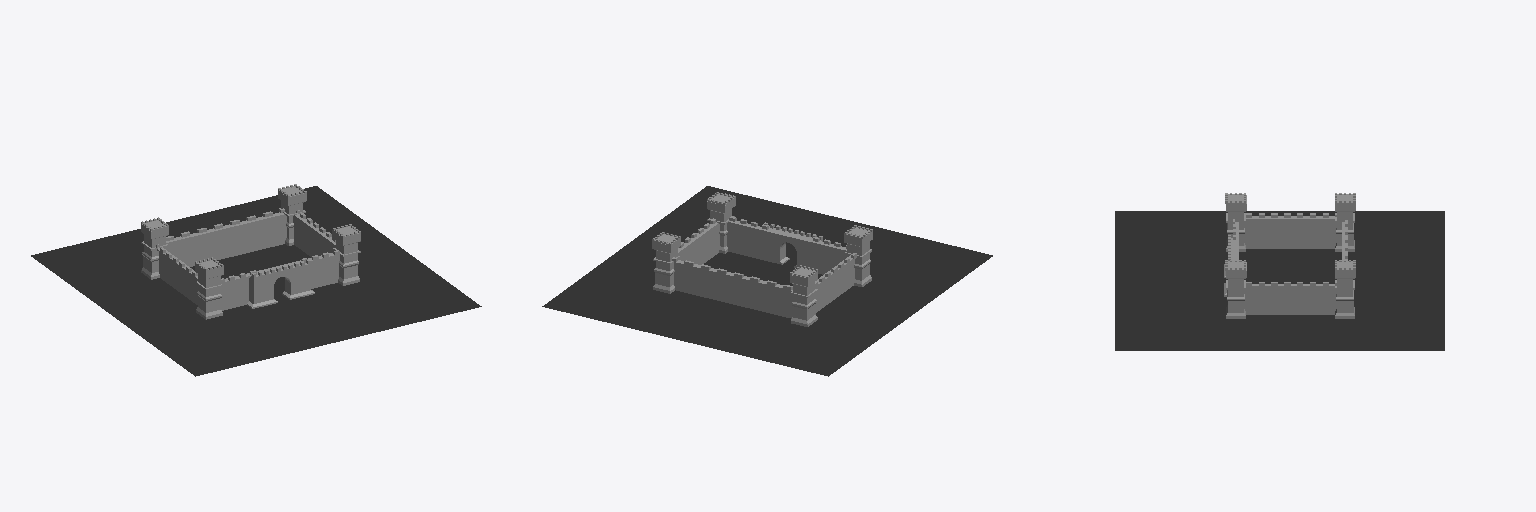
Rendered from texturing_castle_final.blend2.obj.
3 views of the same model, side by side, from view 1: azimuth 30°, elevation 25°; view 2: azimuth 150°, elevation 25°; view 3: azimuth 270°, elevation 25° (orthographic).
Parts seen in each view (by area): view 1: Ground_Plane.007, CastleWalls_Plane, Gatehouse_Circle, Cornice_blocks_Plane.002, Tower4_Plane.003, Tower3_Plane.003, Tower2_Plane.003, Tower_1_Plane.003; view 2: Ground_Plane.007, CastleWalls_Plane, Gatehouse_Circle, Cornice_blocks_Plane.002, Tower2_Plane.003, Tower_1_Plane.003, Tower4_Plane.003, Tower3_Plane.003; view 3: Ground_Plane.007, CastleWalls_Plane, Cornice_blocks_Plane.002, Tower3_Plane.003, Tower_1_Plane.003, Tower2_Plane.003, Tower4_Plane.003.
Part boxes in pixels (x1,y1,x2,y2): Ground_Plane.007: (31, 186, 481, 376); CastleWalls_Plane: (159, 216, 339, 310); Gatehouse_Circle: (249, 261, 310, 303); Cornice_blocks_Plane.002: (156, 208, 339, 282); Tower4_Plane.003: (195, 264, 223, 319); Tower3_Plane.003: (332, 230, 360, 285); Tower2_Plane.003: (141, 225, 168, 279); Tower_1_Plane.003: (278, 191, 306, 245); Ground_Plane.007: (542, 186, 992, 376); CastleWalls_Plane: (674, 223, 854, 318); Gatehouse_Circle: (760, 226, 822, 269); Cornice_blocks_Plane.002: (672, 216, 856, 290); Tower2_Plane.003: (790, 272, 817, 326); Tower_1_Plane.003: (652, 238, 680, 293); Tower4_Plane.003: (844, 232, 872, 286); Tower3_Plane.003: (707, 198, 735, 253); Ground_Plane.007: (1115, 211, 1444, 350); CastleWalls_Plane: (1244, 221, 1336, 314); Cornice_blocks_Plane.002: (1233, 213, 1347, 285); Tower3_Plane.003: (1226, 262, 1246, 318); Tower_1_Plane.003: (1335, 271, 1355, 318); Tower2_Plane.003: (1335, 204, 1355, 251); Tower4_Plane.003: (1226, 195, 1246, 251).
Size of the model in its own units: 100 by 17.03 by 100.